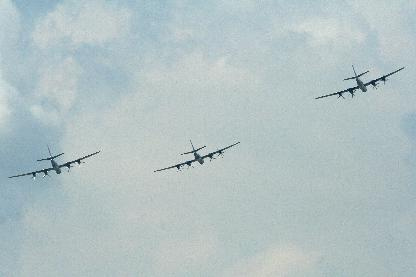Su57: (8, 144, 100, 180), (314, 63, 404, 98), (154, 138, 240, 171)
